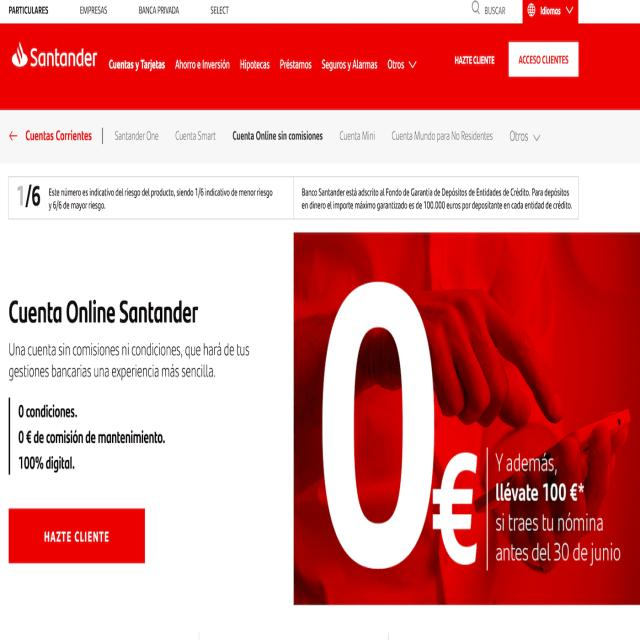santander: (12, 42, 28, 67)
